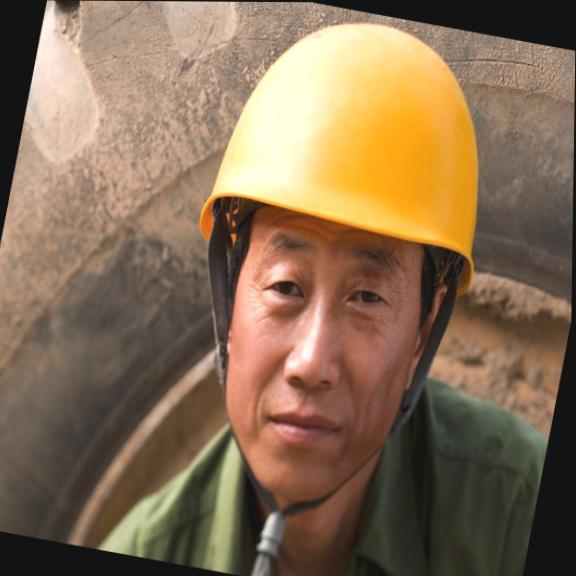no_safety_vest: (74, 333, 554, 576)
